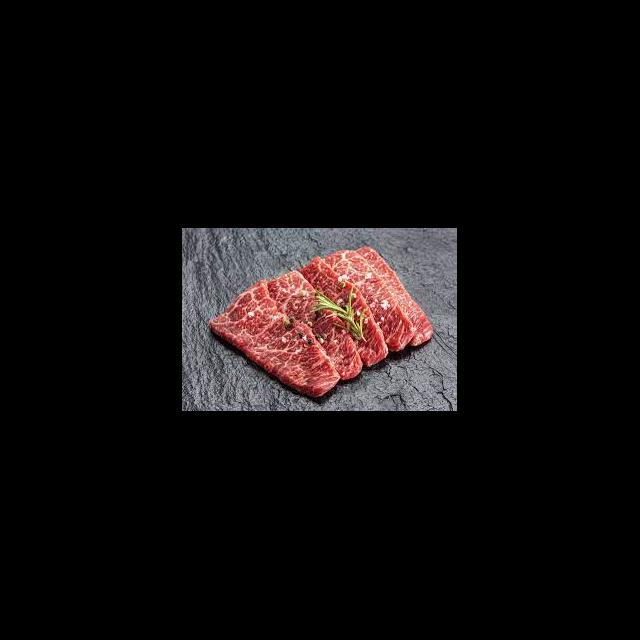beef: (206, 280, 342, 400), (329, 245, 433, 367)
